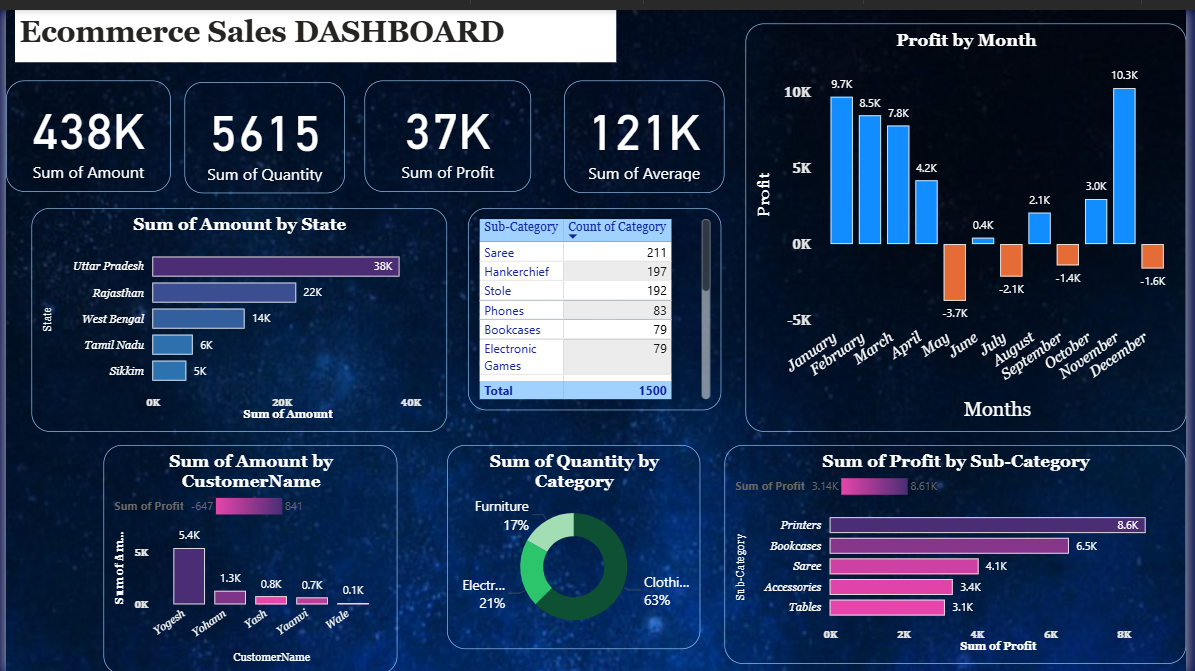

The dashboard page shown, as its layout file describes it:
{"tool":"powerbi","page":{"name":"Page 1","canvas":[1280,720],"ordinal":0},"visuals":[{"type":"textbox","box":[9.4,0,652,56.7],"z":0},{"type":"columnChart","title":"Profit by Month","fields":{"Y":["Details.Profit"],"Category":["Orders.Order Date.Variation.Date Hierarchy.Month"]},"box":[801.9,14.6,478.2,442.4],"z":1000},{"type":"barChart","fields":{"Category":["Details.Sub-Category"],"Y":["Details.Profit"]},"box":[779.1,471.7,501,237.5],"z":2000},{"type":"donutChart","fields":{"Y":["Details.Quantity"],"Category":["Details.Category"]},"box":[478.2,471.7,274.9,221.2],"z":3000},{"type":"tableEx","fields":{"Values":["Details.Sub-Category","Details.Category"]},"box":[501,214.7,274.9,219.6],"z":4000},{"type":"card","fields":{"Values":["Details.Amount"]},"box":[0,76.4,178.9,120.4],"z":5000},{"type":"card","fields":{"Values":["Details.Profit"]},"box":[388.7,76.4,180.5,120.4],"z":6000},{"type":"card","fields":{"Values":["Details.Quantity"]},"box":[193.6,78.1,174,120.4],"z":7000},{"type":"card","fields":{"Values":["Details.Average"]},"box":[605.1,76.4,174,122],"z":8000},{"type":"barChart","fields":{"Category":["Orders.State"],"Y":["Details.Amount"]},"box":[27.7,214.7,450.6,242.4],"z":9000},{"type":"columnChart","fields":{"Category":["Orders.CustomerName"],"Y":["Details.Amount"]},"box":[105.7,471.7,318.8,248.9],"z":10000}]}

Visuals, with their boxes in screenshot pixels (x1, y1, x2, y2), scaled from the page's 1280x720 canvas onto the 1195x671 screenshot:
textbox: crop(9, 0, 617, 53)
"Profit by Month" columnChart: crop(749, 14, 1194, 426)
barChart - Details.Sub-Category x Details.Profit: crop(727, 440, 1194, 661)
donutChart - Details.Quantity x Details.Category: crop(446, 440, 703, 646)
tableEx - Details.Sub-Category x Details.Category: crop(468, 200, 724, 405)
card - Details.Amount: crop(0, 71, 167, 183)
card - Details.Profit: crop(363, 71, 531, 183)
card - Details.Quantity: crop(181, 73, 343, 185)
card - Details.Average: crop(565, 71, 727, 185)
barChart - Orders.State x Details.Amount: crop(26, 200, 447, 426)
columnChart - Orders.CustomerName x Details.Amount: crop(99, 440, 396, 670)
